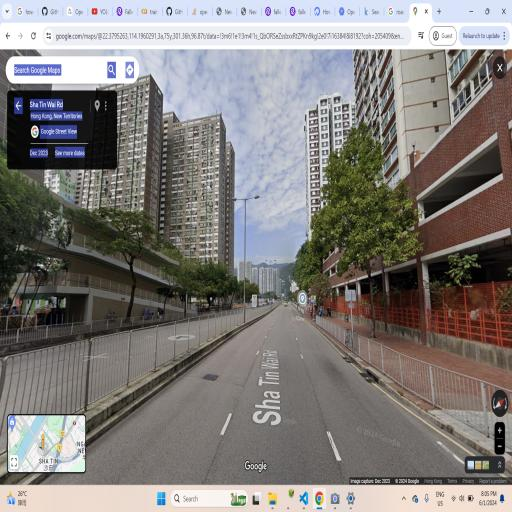Roads: (13, 296, 489, 465)
Trees: (313, 127, 424, 343), (92, 180, 164, 329), (3, 154, 40, 331), (293, 236, 320, 317)
